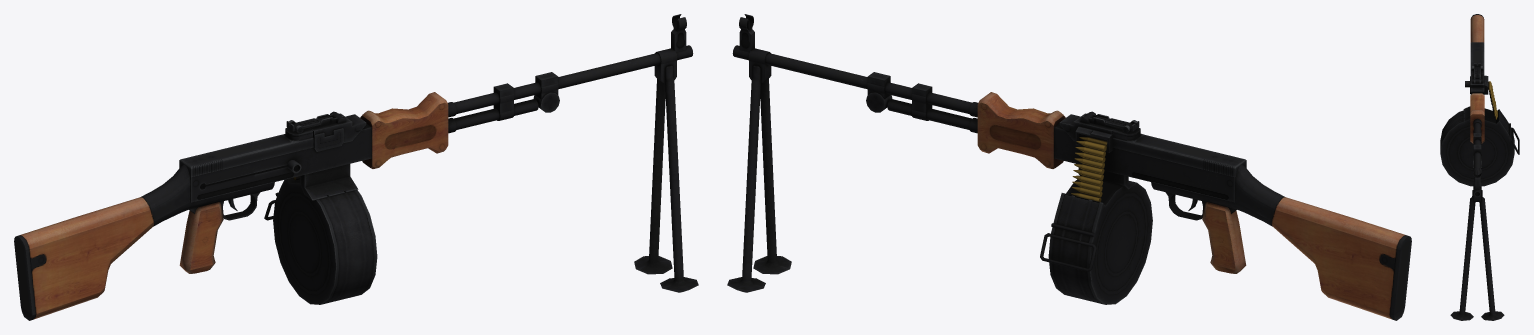
The model's file is RPD.fbx.
3 renders of one model, left to right at view 1: azimuth 30°, elevation 25°; view 2: azimuth 150°, elevation 25°; view 3: azimuth 270°, elevation 25°, orthographic. The views are drawn at different scales.
Visible parts, largest first — view 1: RPD; view 2: RPD; view 3: RPD.
Boxes of the visible parts, x1,y1,x2,y2 form: RPD: (14,14,698,320); RPD: (727,14,1411,320); RPD: (1440,14,1519,320).
Size of the model in its own units: 986 by 368 by 171.
1 material, 1 textured.
